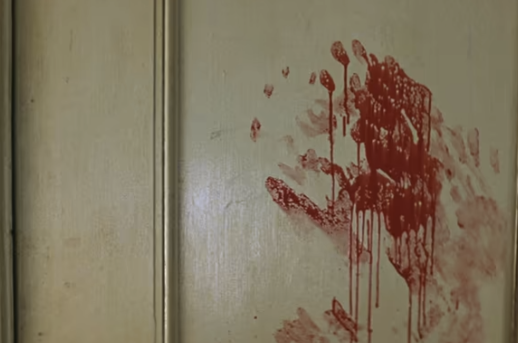blood_42.png: (227, 36, 508, 342)
